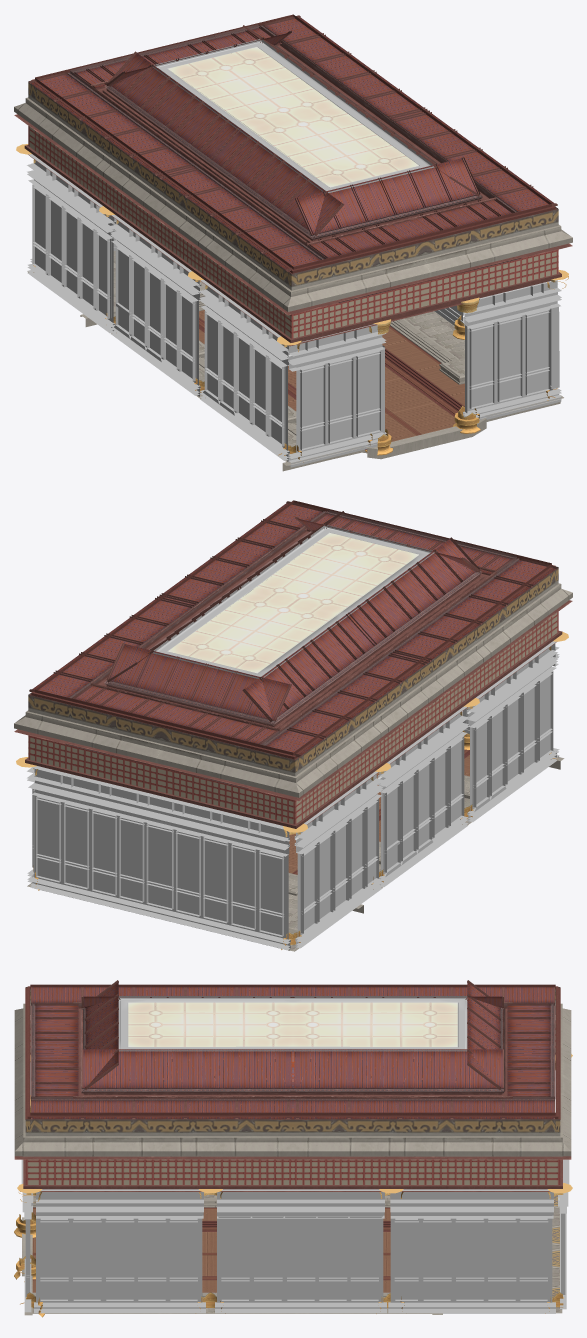
The model's file is mod_zlc_jianzhu068_xy.FBX.
3 views of the same model, one above another, from view 1: azimuth 30°, elevation 25°; view 2: azimuth 150°, elevation 25°; view 3: azimuth 270°, elevation 25° (orthographic).
Parts seen in each view (by area): view 1: mod_zlc_jianzhu068_xy; view 2: mod_zlc_jianzhu068_xy; view 3: mod_zlc_jianzhu068_xy.
Boxes of the visible parts, x1=… form: mod_zlc_jianzhu068_xy: x1=14, y1=14, x2=572, y2=471; mod_zlc_jianzhu068_xy: x1=14, y1=500, x2=572, y2=951; mod_zlc_jianzhu068_xy: x1=14, y1=980, x2=572, y2=1317.
Size of the model in its own units: 3576 by 2800 by 5911.
